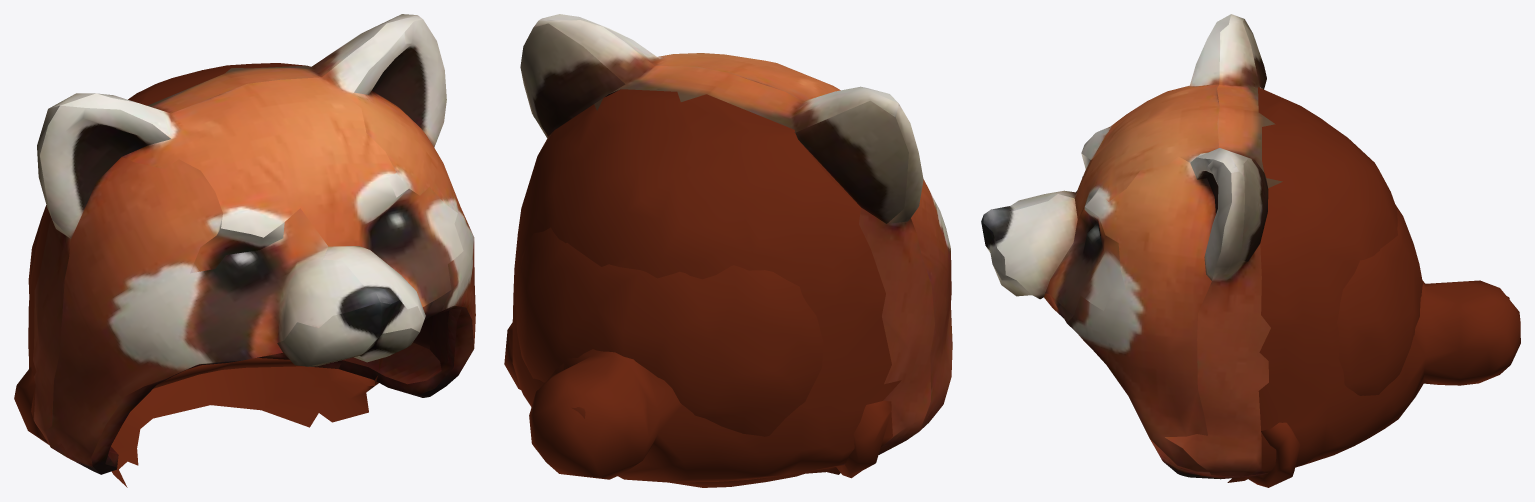
Rendered from red-panda.glb.
The picture shows the model from 3 angles, left to right: view 1: azimuth 30°, elevation 25°; view 2: azimuth 150°, elevation 25°; view 3: azimuth 270°, elevation 25°; orthographic projection. The views are drawn at different scales.
Visible parts, largest first — view 1: geometry_0, HoodAnatomicalLining; view 2: geometry_0, HoodAnatomicalLining; view 3: geometry_0, HoodAnatomicalLining.
Part boxes in pixels (left/top/right/bottom): geometry_0: left=28, top=14, right=475, bottom=474; HoodAnatomicalLining: left=14, top=205, right=383, bottom=487; geometry_0: left=512, top=14, right=952, bottom=482; HoodAnatomicalLining: left=504, top=141, right=891, bottom=487; geometry_0: left=981, top=14, right=1520, bottom=479; HoodAnatomicalLining: left=1227, top=164, right=1422, bottom=487.
Bounding box in the file's own units: 0.5384 × 0.5097 × 0.7026.
Materials: 2 (1 with a texture image).
